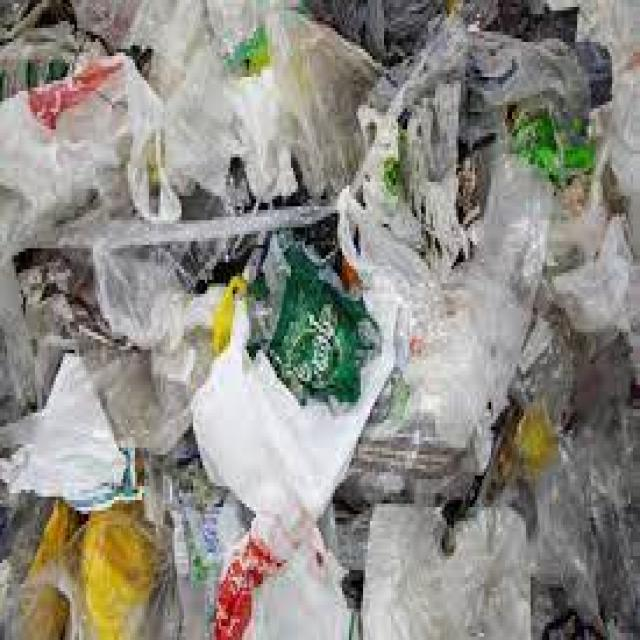trash: (35, 24, 593, 608)
